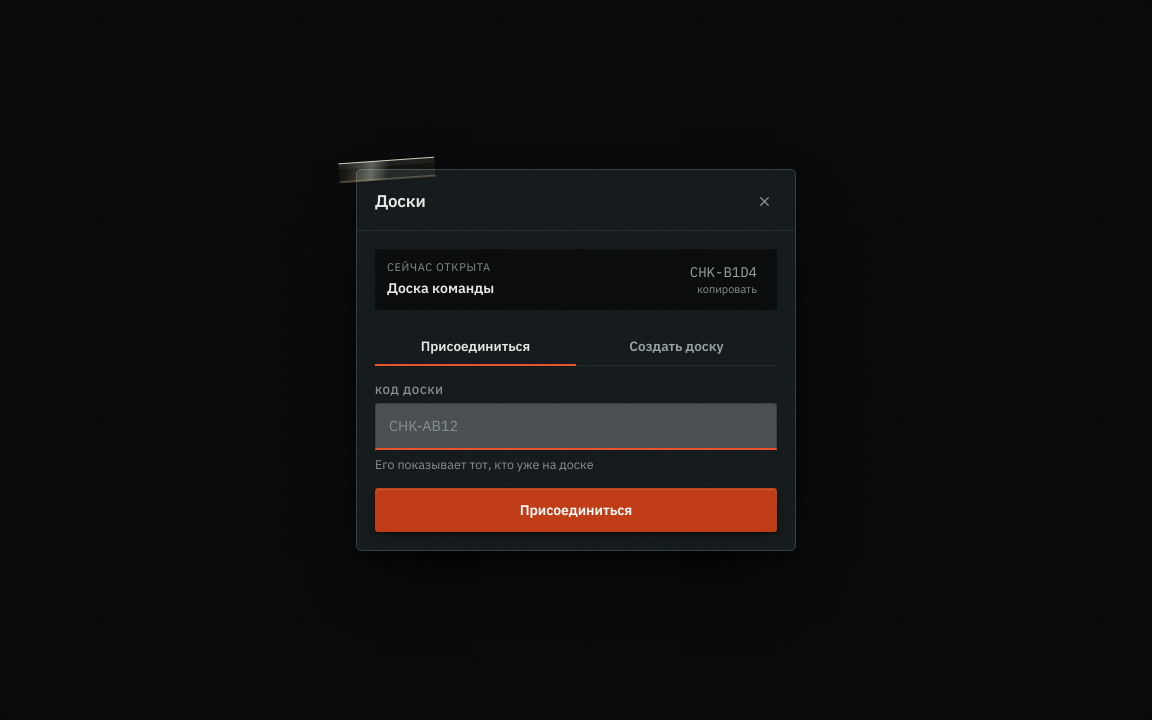
BoardModal › says so when no board has that code
Type "CHK-ZZZZ" into the field labelled "Код доски" at x=576, y=426, box [375,403,777,449]
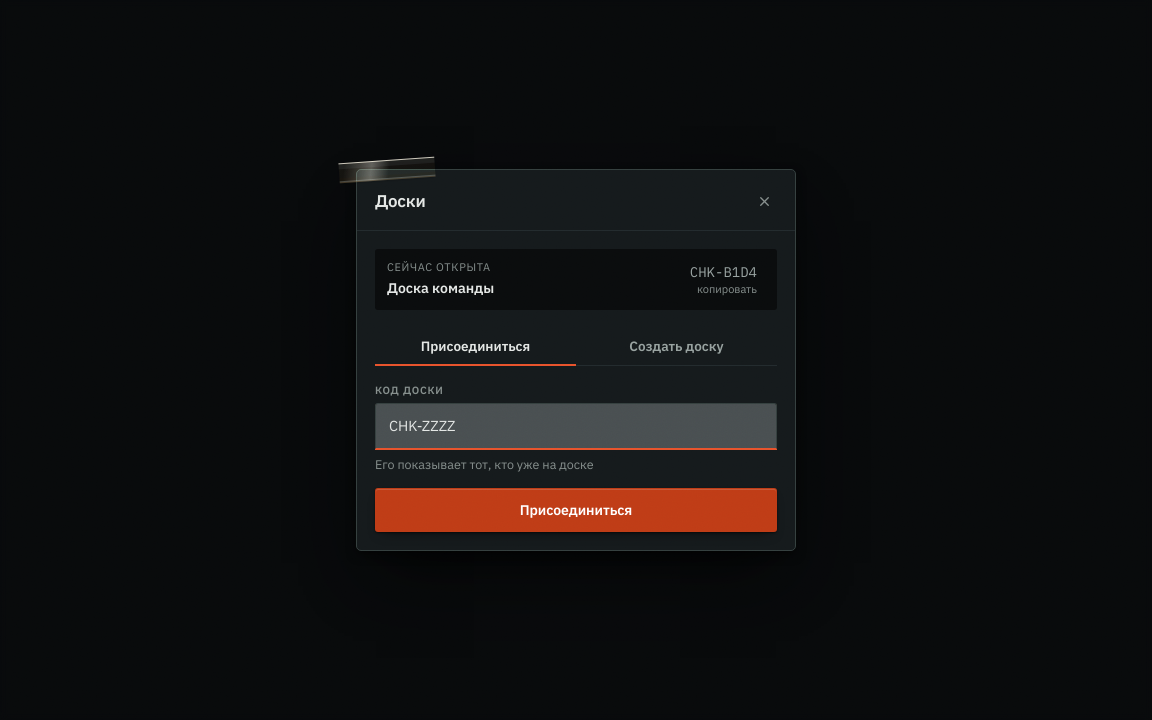
Click the button "Присоединиться" at x=576, y=510, box [375,488,777,532]
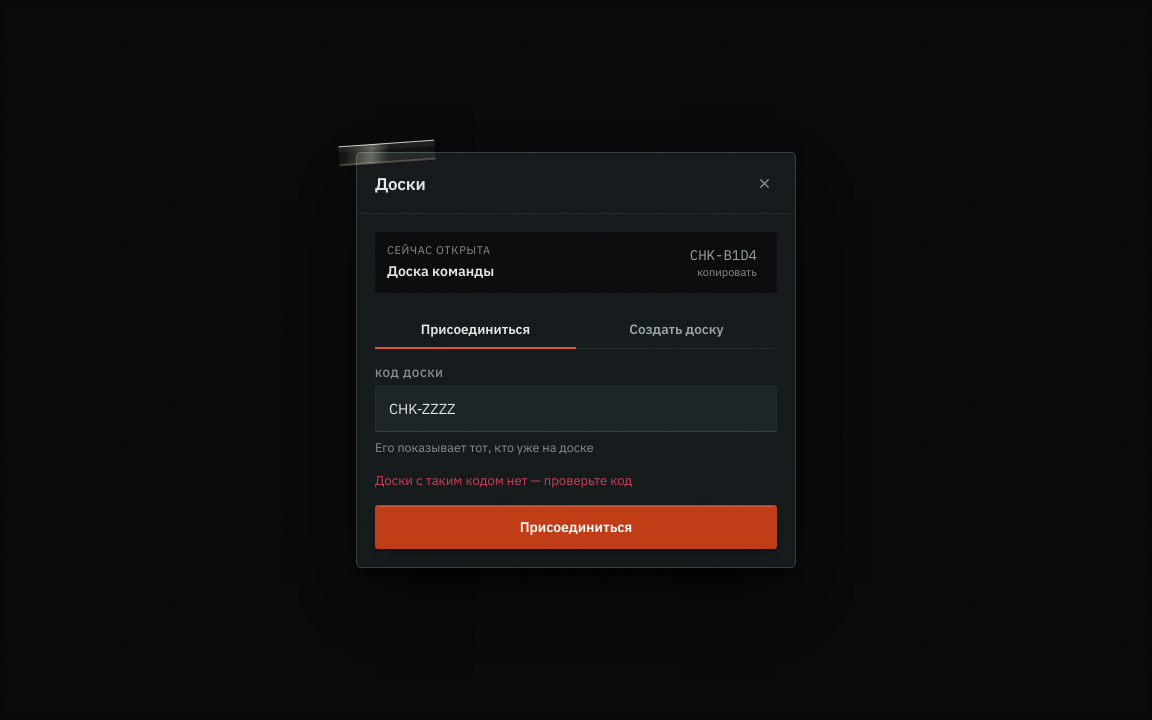
Check: the message shows "Доски с таким кодом нет", box [375,472,632,489]
